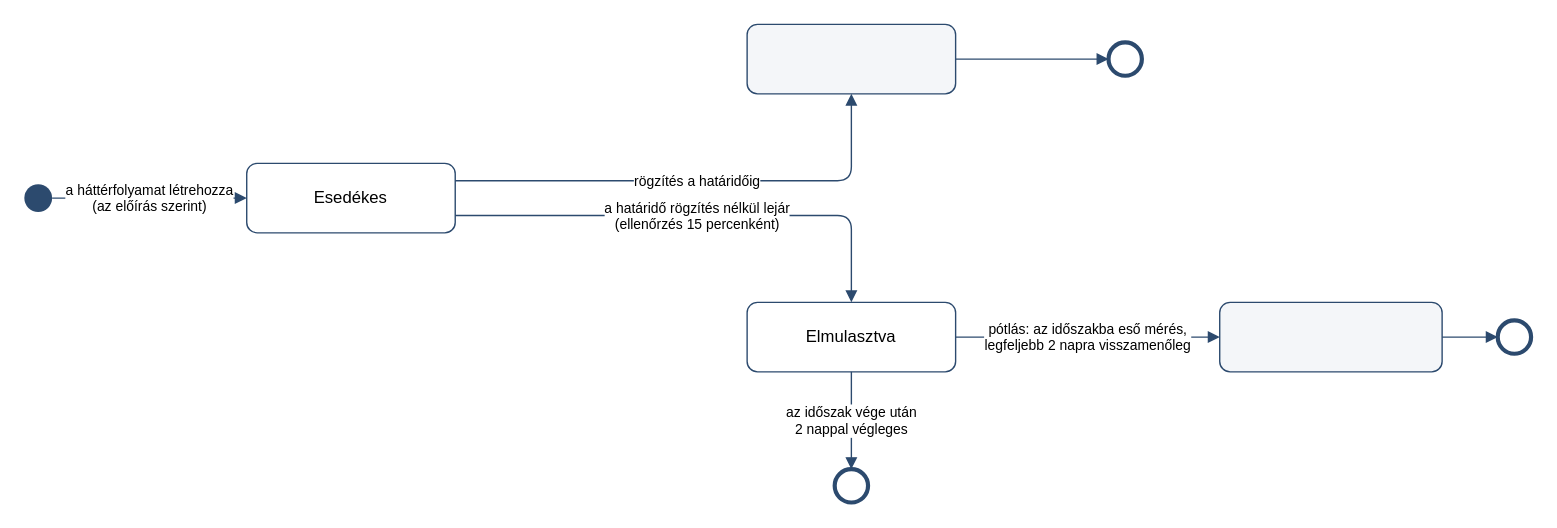
Some shapes in this 1557 by 528 pixel diagram are drawn without their labels. Each missing label, with the box of its shape:
Késve teljesítve: (1218, 301, 1442, 372)
Teljesítve: (746, 23, 956, 94)
